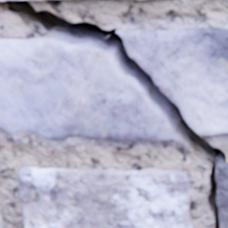brick: (19, 166, 192, 227), (215, 160, 227, 227), (0, 196, 4, 227)
broken_brick: (0, 37, 179, 141), (116, 27, 227, 135)
crack: (0, 0, 225, 227)
